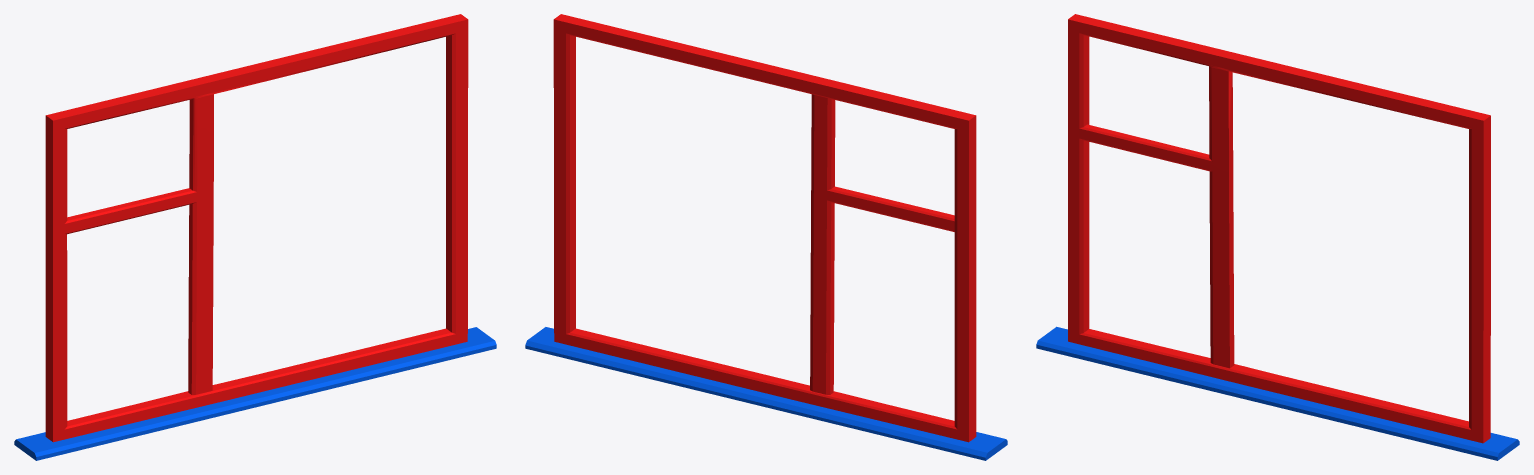
The model's file is Window(Paneless).fbx.
3 views of the same model, side by side, from view 1: azimuth 30°, elevation 25°; view 2: azimuth 150°, elevation 25°; view 3: azimuth 330°, elevation 25° (orthographic).
Parts seen in each view (by area): view 1: Window, WindowLedge; view 2: Window, WindowLedge; view 3: Window, WindowLedge.
Boxes of the visible parts, left/top/right/bottom form: Window: left=45, top=14, right=468, bottom=442; WindowLedge: left=14, top=327, right=496, bottom=460; Window: left=553, top=14, right=976, bottom=442; WindowLedge: left=525, top=327, right=1007, bottom=460; Window: left=1068, top=14, right=1490, bottom=443; WindowLedge: left=1036, top=326, right=1519, bottom=460.
Bounding box in the file's own units: 75.22 × 51.36 × 6.23.
